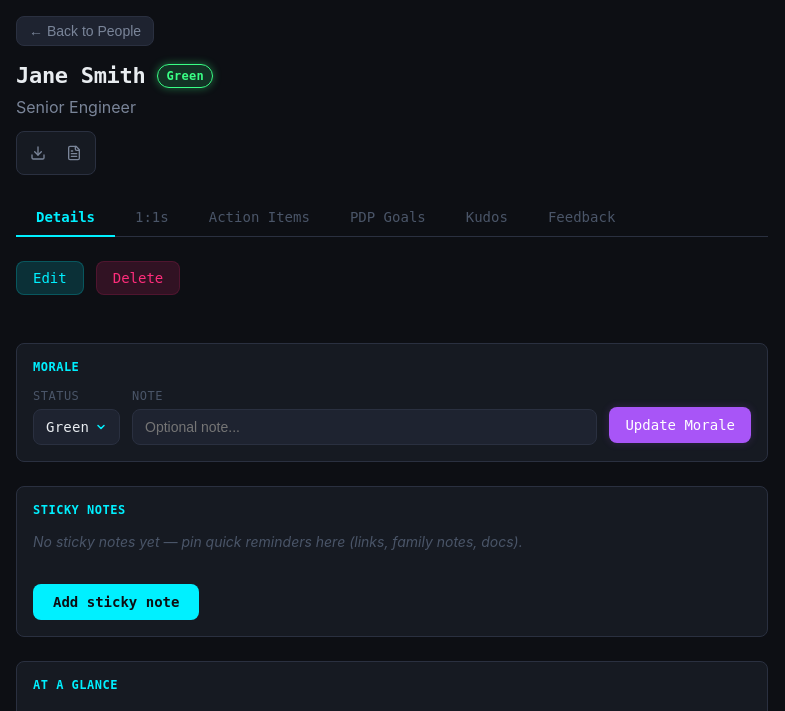
it: PersonDetailPage - Feedback Tab › switches to the Feedback tab and renders the feedback panel
Click the tab with test id "tab-feedback".
click(582, 218)  # box [528,199,635,237]
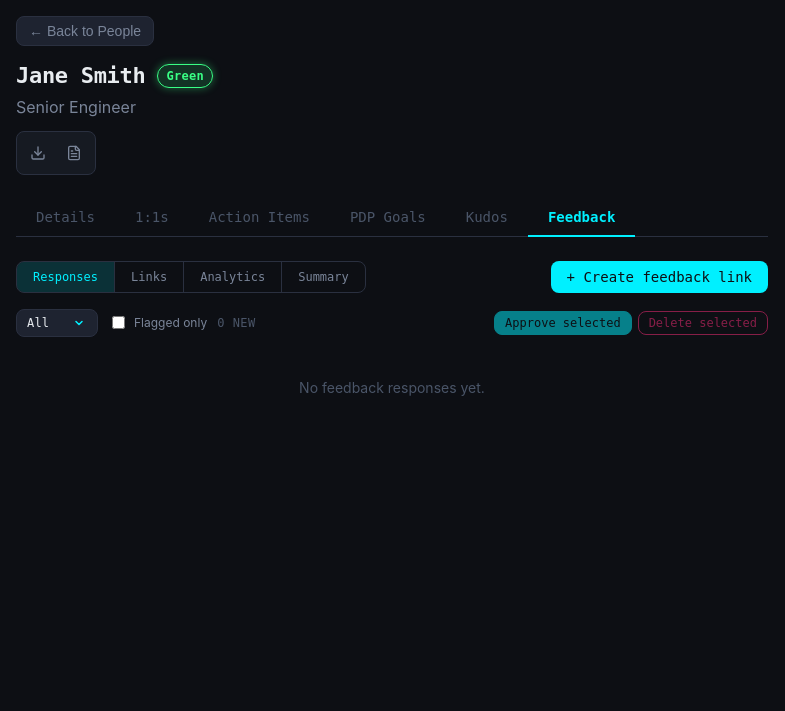
Expected: the element with test id "feedback-tab-panel" is shown, [16,261,768,422]
Expected: the element with test id "feedback-responses-panel" is shown, [16,309,768,422]
